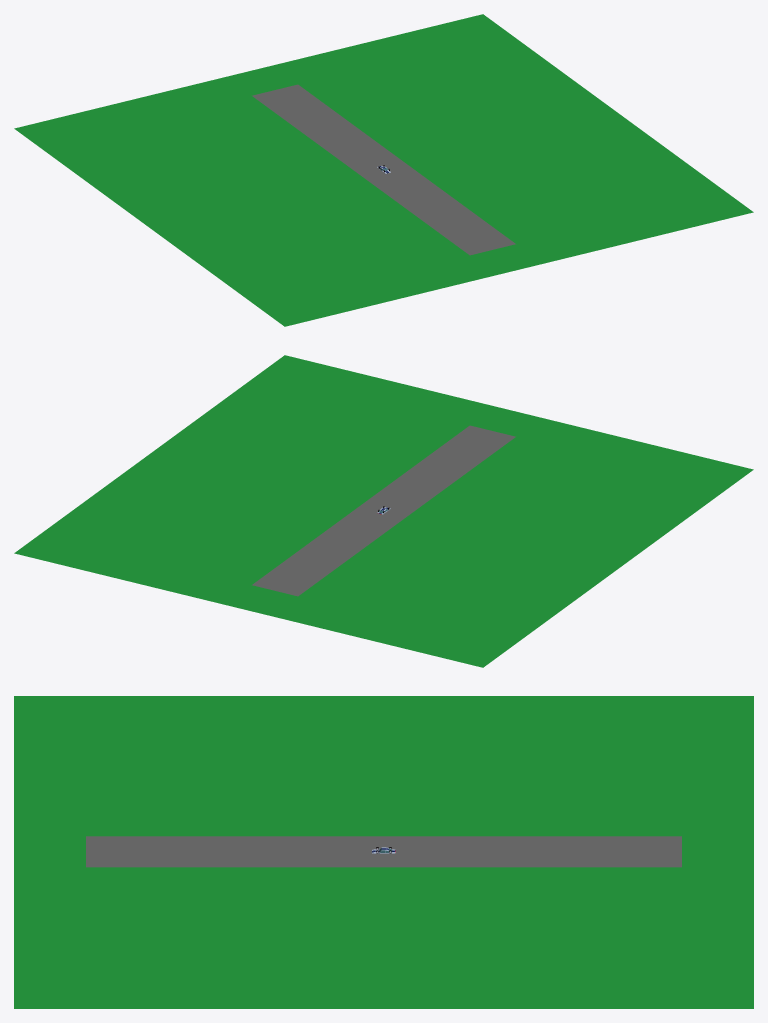
The model's file is muscle2.gltf.
3 renders of one model, top to bottom at view 1: azimuth 30°, elevation 25°; view 2: azimuth 150°, elevation 25°; view 3: azimuth 270°, elevation 25°, orthographic. The views are drawn at different scales.
Visible parts, largest first — view 1: grassplane, road; view 2: grassplane, road; view 3: grassplane, road.
Boxes of the visible parts, x1,y1,x2,y2 form: grassplane: [14, 14, 753, 326]; road: [252, 84, 515, 255]; grassplane: [14, 355, 753, 667]; road: [252, 425, 515, 596]; grassplane: [14, 696, 753, 1008]; road: [86, 836, 681, 867].
Bounding box in the file's own units: 183 × 1.6 × 183.
